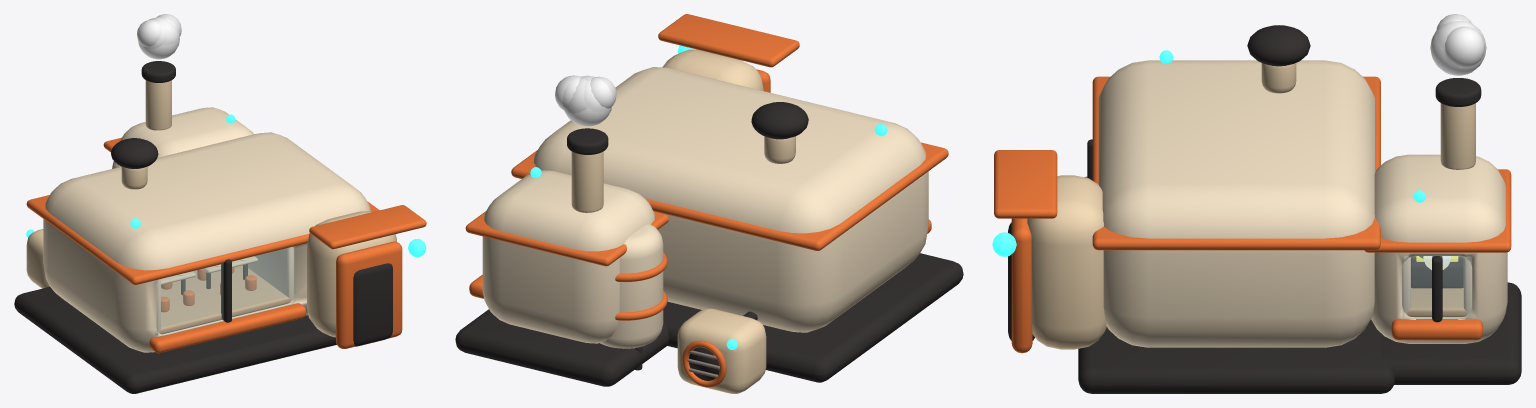
File: canteen-1.glb
3 renders of one model, left to right at view 1: azimuth 30°, elevation 25°; view 2: azimuth 150°, elevation 25°; view 3: azimuth 270°, elevation 25°, orthographic. The views are drawn at different scales.
Parts seen in each view (by area): view 1: Cube.001, Cube, Cube.009, Cube.008, Cube.006, Cube.003, Cube.002, Sphere.007, Sphere.005; view 2: Cube.001, Cube, Cube.009, Cube.006, Sphere.007; view 3: Cube.001, Cube, Cube.009, Cube.006, Cube.008, Sphere.007, Cube.003, Cube.002, Sphere.005.
Part boxes in pixels (x1,y1,x2,y2): Cube.001: (43,107,370,352); Cube: (14,61,392,393); Cube.009: (26,137,426,353); Cube.008: (157,246,295,336); Cube.006: (26,80,396,337); Cube.003: (159,265,291,334); Cube.002: (155,247,293,335); Sphere.007: (137,14,181,59); Sphere.005: (26,114,426,257); Cube.001: (482,67,928,348); Cube: (455,102,963,386); Cube.009: (465,14,948,387); Cube.006: (571,49,795,393); Sphere.007: (555,75,616,126); Cube.001: (1098,60,1507,347); Cube: (1008,25,1521,393); Cube.009: (994,76,1511,353); Cube.006: (1027,63,1475,349); Cube.008: (1402,256,1472,318); Sphere.007: (1430,14,1486,75); Cube.003: (1407,288,1466,317); Cube.002: (1402,256,1472,314); Sphere.005: (992,50,1425,256).
Size of the model in its own units: 1.2 by 0.974 by 1.51.
